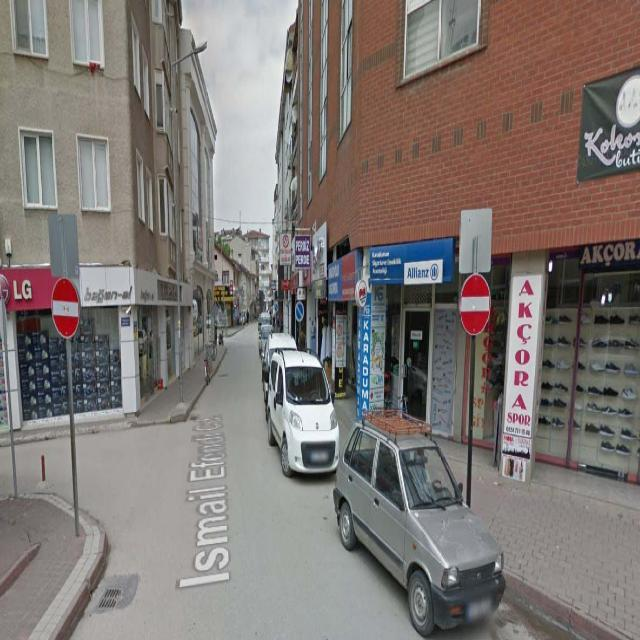girisyok: (460, 274, 491, 338), (51, 279, 78, 334)
